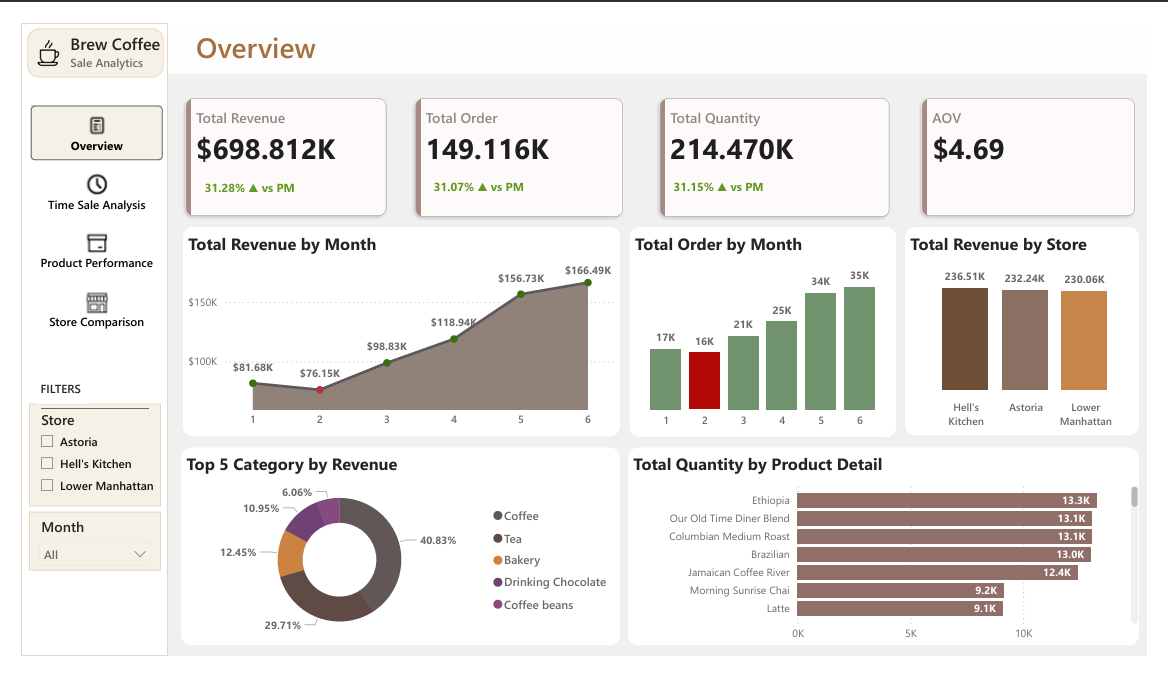

The dashboard page shown, as its layout file describes it:
{"tool":"powerbi","page":{"name":"Overview","canvas":[1280,720],"ordinal":0},"visuals":[{"type":"shape","box":[6.5,5.8,155,55.8],"z":0,"group":"g1"},{"type":"cardVisual","fields":{"Data":["Measure (2).Total Revenue"]},"box":[182,80,239,145],"z":0},{"type":"textbox","box":[50.6,5.8,116.7,58.7],"z":1000,"group":"g1"},{"type":"cardVisual","fields":{"Data":["Measure (2).Total Order"]},"box":[443,80,247,146],"z":1000},{"type":"image","box":[5.7,17.3,49,32.7],"z":2000,"group":"g1"},{"type":"cardVisual","fields":{"Data":["Measure (2).Order Growth KPI"]},"box":[464,165,113,39],"z":2000},{"type":"cardVisual","fields":{"Data":["Measure (2).AOV"]},"box":[1019,80,253,145],"z":3000},{"type":"cardVisual","fields":{"Data":["Measure (2).Total Quantity"]},"box":[720.7,80,272,146],"z":4000},{"type":"shape","box":[0,0,167.3,720.3],"z":5000},{"type":"cardVisual","fields":{"Data":["Measure (2).Revenue Growth KPI"]},"box":[206.8,165,106.7,40.4],"z":6000},{"type":"slicer","title":"Category","fields":{"Values":["dim_store.store_location"]},"box":[9,432.9,150,117.3],"z":7000},{"type":"lineChart","title":"Total Revenue by Month","fields":{"Category":["dim_date.month"],"Y":["Measure (2).Total Revenue"]},"box":[184,232,497,238],"z":8000},{"type":"cardVisual","fields":{"Data":["Measure (2).Quantity Growth KPI"]},"box":[736,165,114,38],"z":9000},{"type":"columnChart","title":"Total Revenue by Store","fields":{"Category":["dim_store.store_location"],"Y":["Measure (2).Total Revenue"]},"box":[1005,232,266,237],"z":10000},{"type":"donutChart","title":"Top 5 Category by Revenue","fields":{"Category":["dim_product.product_category"],"Y":["Measure (2).Total Revenue"]},"box":[182,483,499,225],"z":11000},{"type":"columnChart","title":"Total Order by Month","fields":{"Y":["Measure (2).Total Order"],"Category":["dim_date.month"]},"box":[691.5,232,303,239],"z":12000},{"type":"textbox","box":[194.3,0,193.3,61.5],"z":13000},{"type":"barChart","title":"Total Quantity by Product Detail","fields":{"Category":["dim_product.product_detail"],"Y":["Measure (2).Total Quantity"]},"box":[690,483,581,225],"z":14000},{"type":"actionButton","box":[10.6,94.2,150,62],"z":15000},{"type":"actionButton","box":[10.6,161.1,150,62],"z":16000},{"type":"actionButton","box":[10.6,227.9,150,62.5],"z":17000},{"type":"actionButton","box":[10.6,295.2,150,62],"z":18000},{"type":"slicer","title":"Month","fields":{"Values":["dim_date.month"]},"box":[9,556,150,67.3],"z":19000},{"type":"textbox","box":[17,402,58,31],"z":20000},{"type":"group","id":"g1","title":"Group 1","box":[5.7,5.8,161.6,58.7],"z":21000}]}

Visuals, with their boxes on the page's 1280x720 design canvas (x1, y1, x2, y2). These are canvas units, not pixel positions in the 1168x677 screenshot, which may show the page scaled, cropped or inside an application window:
shape: Rect(6, 6, 162, 62)
cardVisual - Measure (2).Total Revenue: Rect(182, 80, 421, 225)
textbox: Rect(51, 6, 167, 64)
cardVisual - Measure (2).Total Order: Rect(443, 80, 690, 226)
image: Rect(6, 17, 55, 50)
cardVisual - Measure (2).Order Growth KPI: Rect(464, 165, 577, 204)
cardVisual - Measure (2).AOV: Rect(1019, 80, 1272, 225)
cardVisual - Measure (2).Total Quantity: Rect(721, 80, 993, 226)
shape: Rect(0, 0, 167, 720)
cardVisual - Measure (2).Revenue Growth KPI: Rect(207, 165, 314, 205)
"Category" slicer: Rect(9, 433, 159, 550)
"Total Revenue by Month" lineChart: Rect(184, 232, 681, 470)
cardVisual - Measure (2).Quantity Growth KPI: Rect(736, 165, 850, 203)
"Total Revenue by Store" columnChart: Rect(1005, 232, 1271, 469)
"Top 5 Category by Revenue" donutChart: Rect(182, 483, 681, 708)
"Total Order by Month" columnChart: Rect(692, 232, 994, 471)
textbox: Rect(194, 0, 388, 62)
"Total Quantity by Product Detail" barChart: Rect(690, 483, 1271, 708)
actionButton: Rect(11, 94, 161, 156)
actionButton: Rect(11, 161, 161, 223)
actionButton: Rect(11, 228, 161, 290)
actionButton: Rect(11, 295, 161, 357)
"Month" slicer: Rect(9, 556, 159, 623)
textbox: Rect(17, 402, 75, 433)
"Group 1" group: Rect(6, 6, 167, 64)
